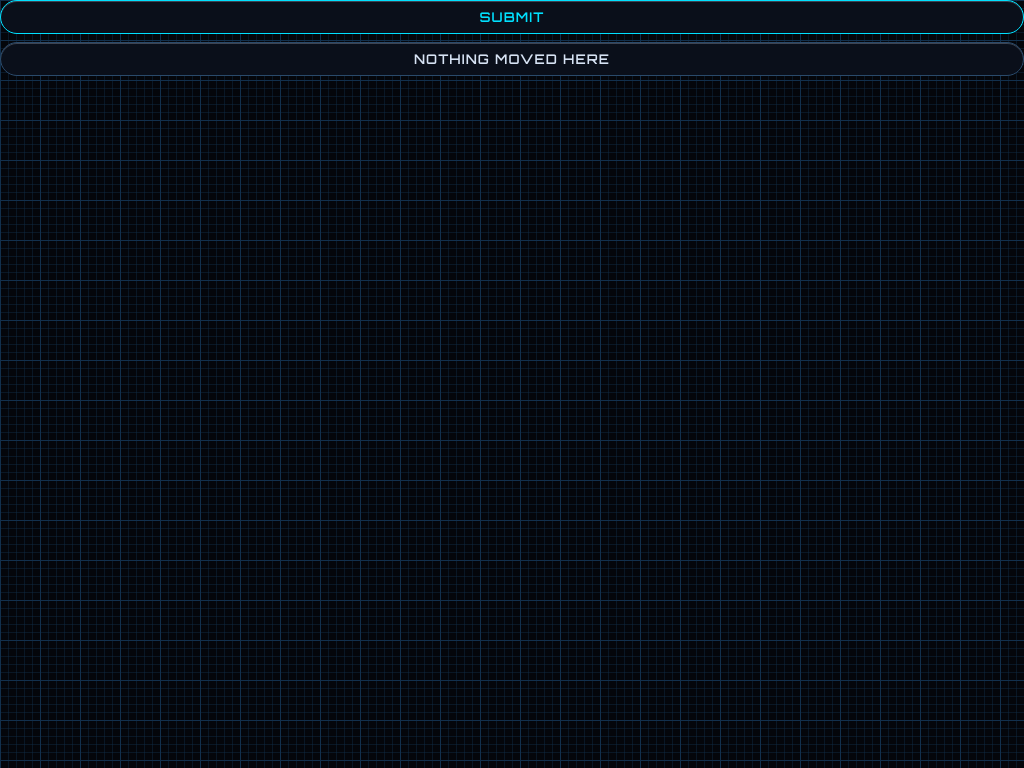
Test case: SubmitBar › does not record a guest find for a persisted or non-scoring verdict
Click the button "Submit" at x=512, y=17, box [0,0,1023,34]
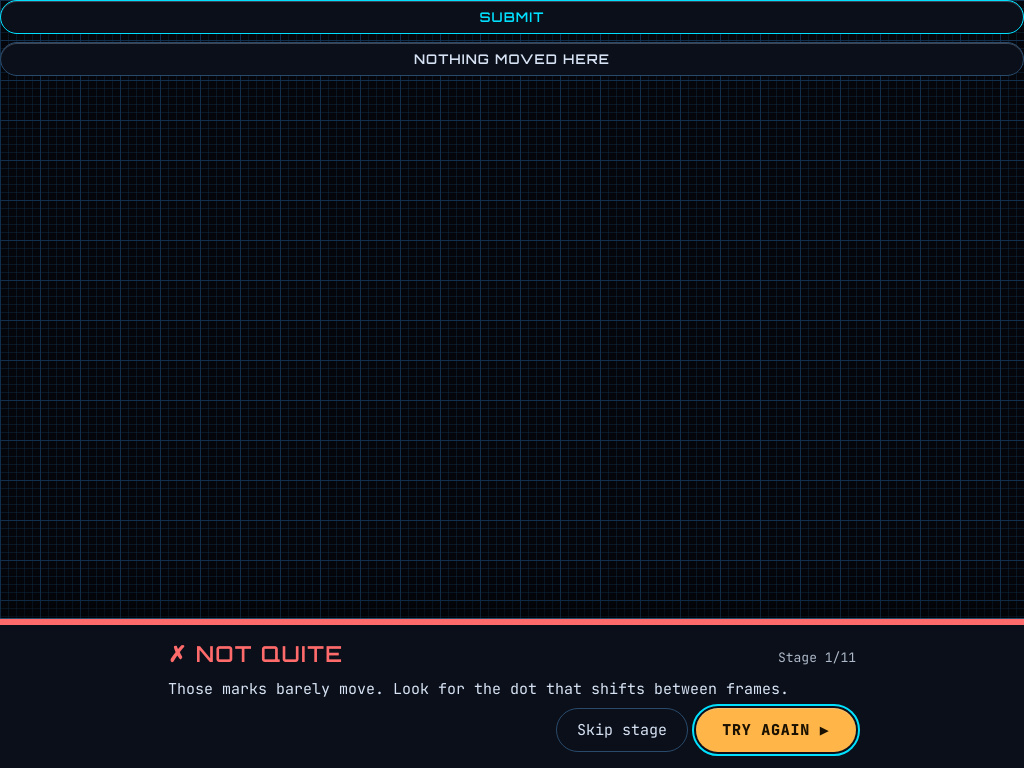
expect the dialog with test id "verdict" shows "NOT QUITE": met, box [168,640,344,666]
